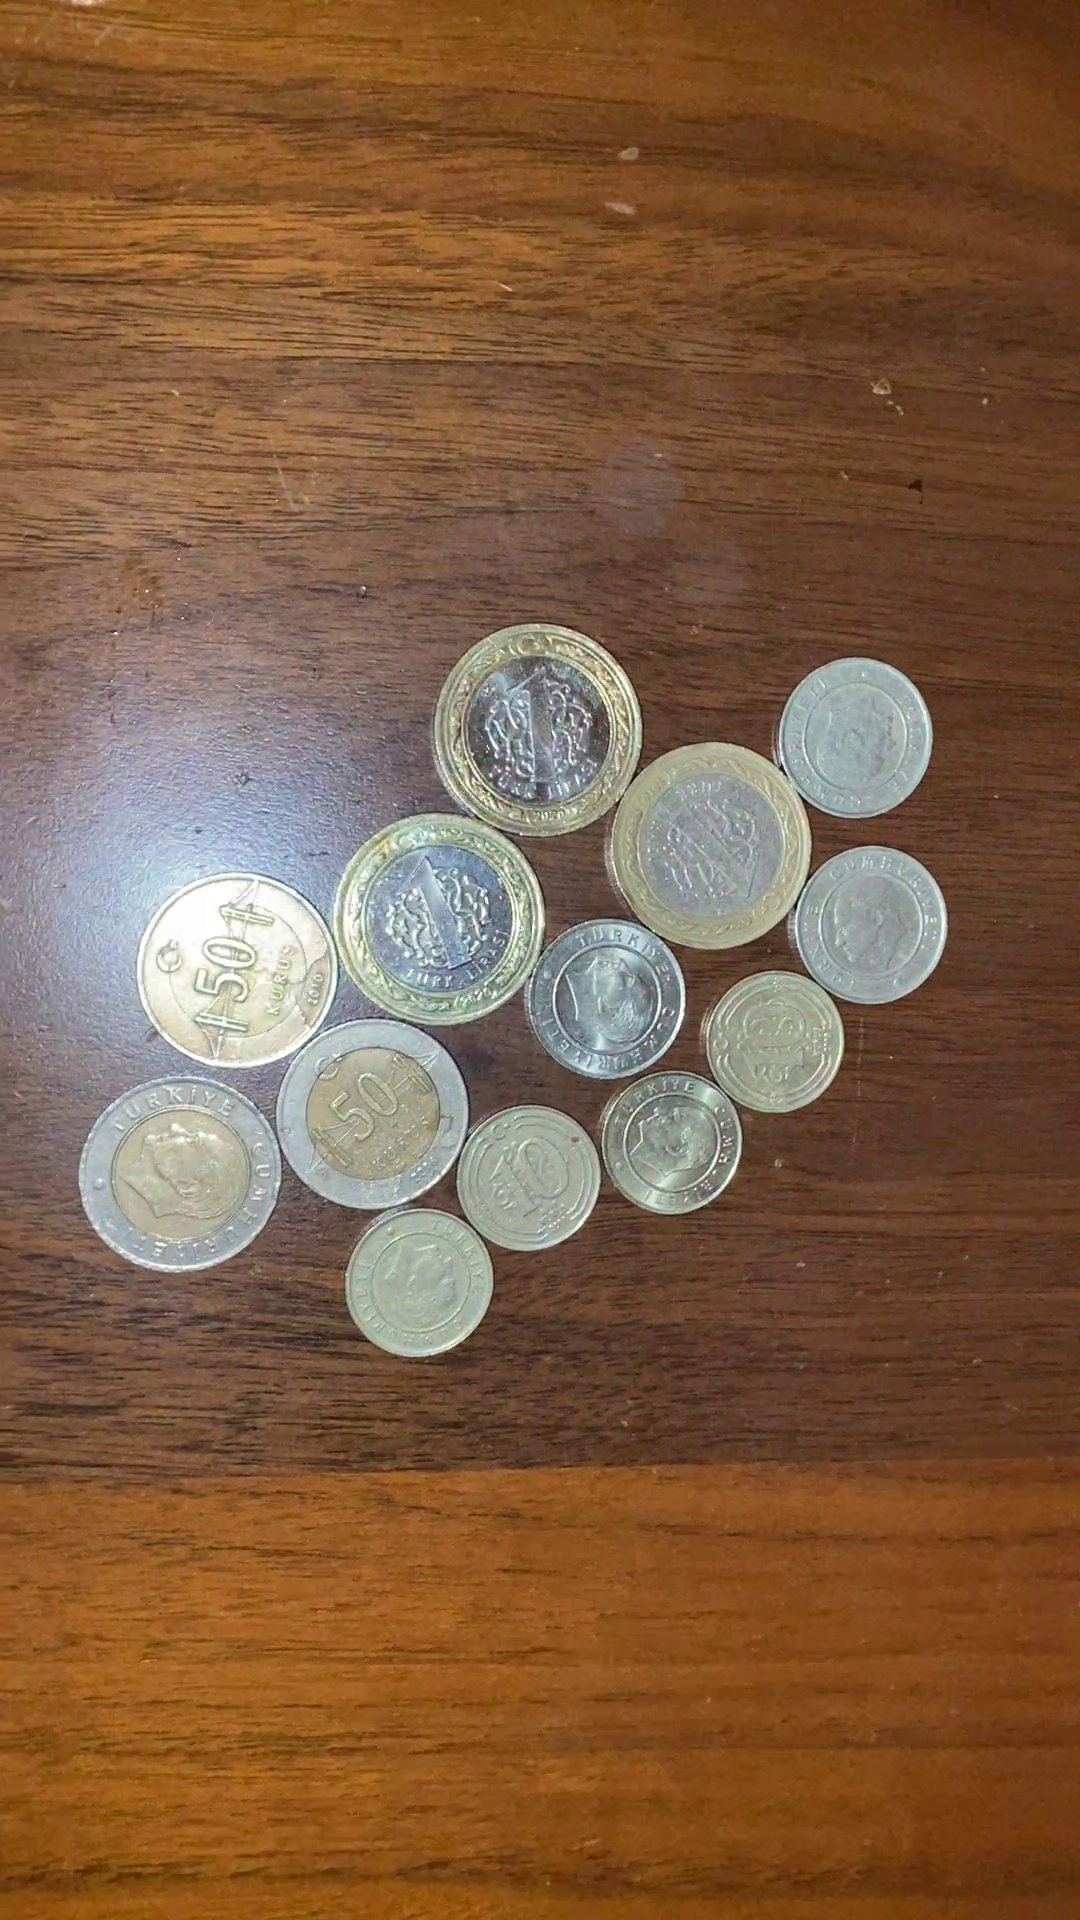1_tl: (595, 738, 818, 953), (335, 814, 551, 1026), (435, 620, 644, 828)
